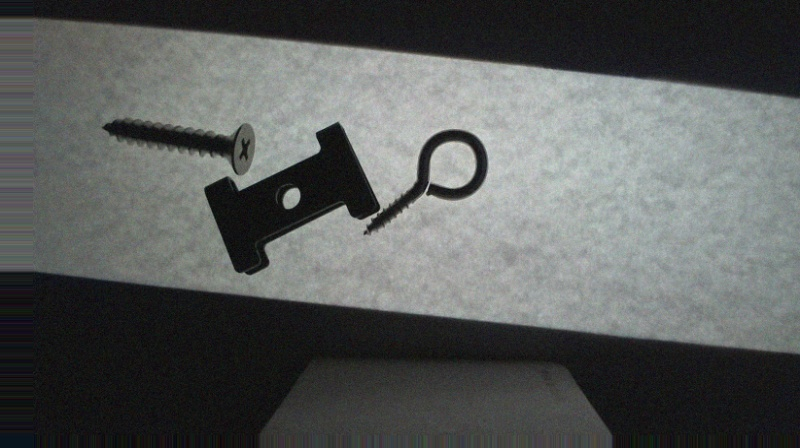O001: (360, 126, 491, 237)
O002: (205, 122, 378, 276)
S001: (100, 113, 256, 175)
